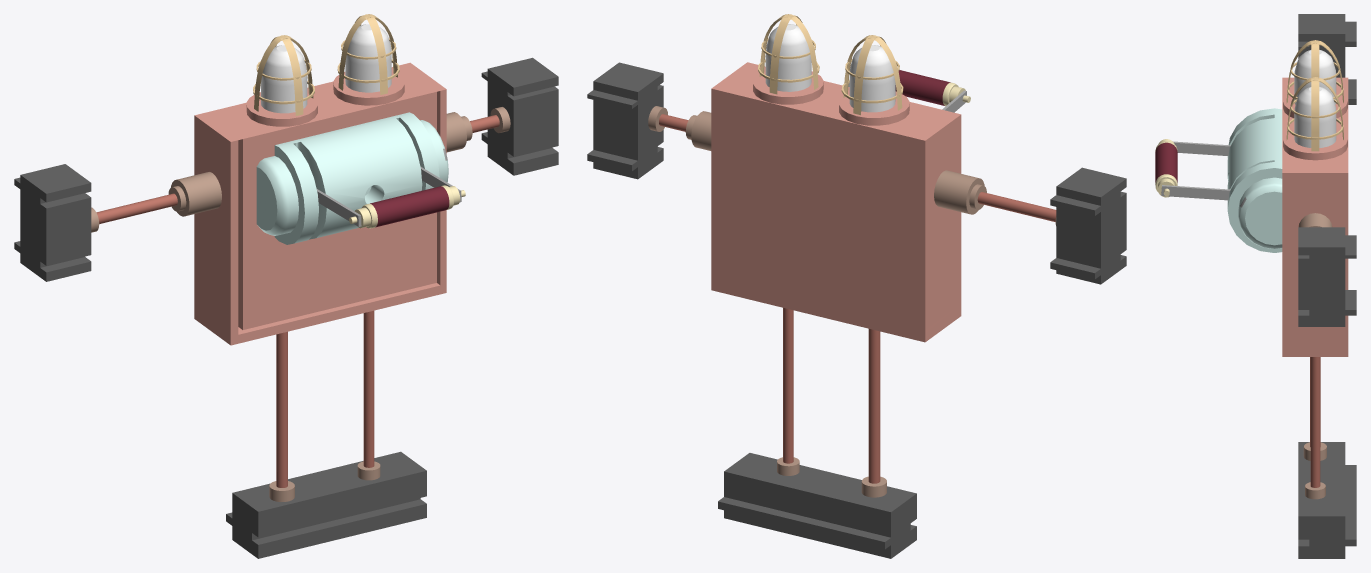
File: HAIDENBANN.fbx
The picture shows the model from 3 angles, left to right: view 1: azimuth 30°, elevation 25°; view 2: azimuth 150°, elevation 25°; view 3: azimuth 270°, elevation 25°; orthographic projection. The views are drawn at different scales.
Parts seen in each view (by area): view 1: pCube25, polySurface6, pCube26, pCube27, pCube28, pCylinder37, pCylinder36, pCylinder30, pCylinder47, pCylinder46, pCylinder31, pCylinder34 (+3 smaller); view 2: pCube25, pCube26, pCube27, pCube28, pCylinder37, pCylinder36, pCylinder46, pCylinder30, pCylinder47, pCylinder31, pCylinder34, pCylinder32 (+2 smaller); view 3: pCube25, polySurface6, pCube26, pCube28, pCylinder37, pCylinder30, pCube27, pCylinder36, pCylinder47, pCylinder32, pCylinder34, pCylinder33 (+1 smaller).
Boxes of the visible parts, x1=… form: pCube25: x1=194, y1=62, x2=446, y2=345; polySurface6: x1=256, y1=112, x2=448, y2=244; pCube26: x1=226, y1=451, x2=426, y2=558; pCube27: x1=14, y1=164, x2=91, y2=281; pCube28: x1=481, y1=57, x2=558, y2=175; pCylinder37: x1=337, y1=14, x2=399, y2=94; pCylinder36: x1=253, y1=35, x2=314, y2=115; pCylinder30: x1=316, y1=166, x2=465, y2=228; pCylinder47: x1=363, y1=310, x2=374, y2=467; pCylinder46: x1=276, y1=331, x2=287, y2=487; pCylinder31: x1=171, y1=172, x2=221, y2=216; pCylinder34: x1=246, y1=92, x2=317, y2=126; pCube25: x1=711, y1=62, x2=961, y2=342; pCube26: x1=718, y1=453, x2=916, y2=558; pCube27: x1=1050, y1=167, x2=1126, y2=284; pCube28: x1=587, y1=62, x2=663, y2=179; pCylinder37: x1=758, y1=14, x2=819, y2=94; pCylinder36: x1=841, y1=35, x2=903, y2=115; pCylinder46: x1=868, y1=329, x2=880, y2=483; pCylinder30: x1=848, y1=70, x2=970, y2=112; pCylinder47: x1=783, y1=308, x2=793, y2=463; pCylinder31: x1=934, y1=170, x2=984, y2=214; pCylinder34: x1=839, y1=91, x2=909, y2=125; pCylinder32: x1=753, y1=71, x2=823, y2=104; pCube25: x1=1282, y1=77, x2=1348, y2=356; polySurface6: x1=1227, y1=108, x2=1282, y2=252; pCube26: x1=1298, y1=442, x2=1356, y2=558; pCube28: x1=1298, y1=227, x2=1356, y2=326; pCylinder37: x1=1286, y1=77, x2=1343, y2=151; pCylinder30: x1=1155, y1=139, x2=1230, y2=200; pCube27: x1=1298, y1=14, x2=1356, y2=104; pCylinder36: x1=1286, y1=40, x2=1343, y2=104; pCylinder47: x1=1310, y1=357, x2=1320, y2=487; pCylinder32: x1=1283, y1=129, x2=1347, y2=160; pCylinder34: x1=1283, y1=91, x2=1347, y2=118; pCylinder33: x1=1298, y1=213, x2=1332, y2=227.
Bounding box in the file's own units: 11.38 × 10.76 × 4.27.
